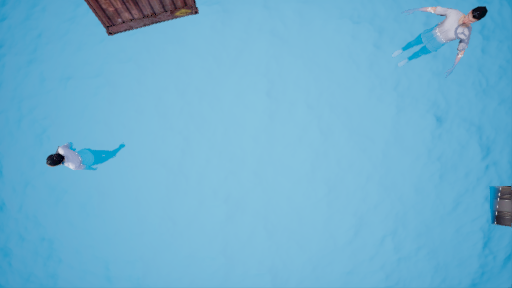person: (391, 3, 483, 79), (43, 138, 134, 168)
